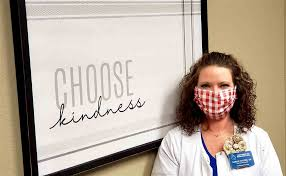mask: (192, 63, 240, 119)
